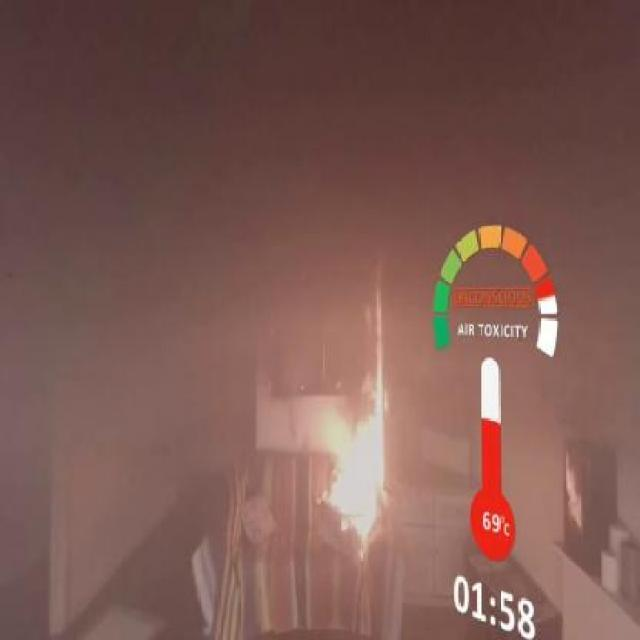fire: (302, 266, 416, 546)
